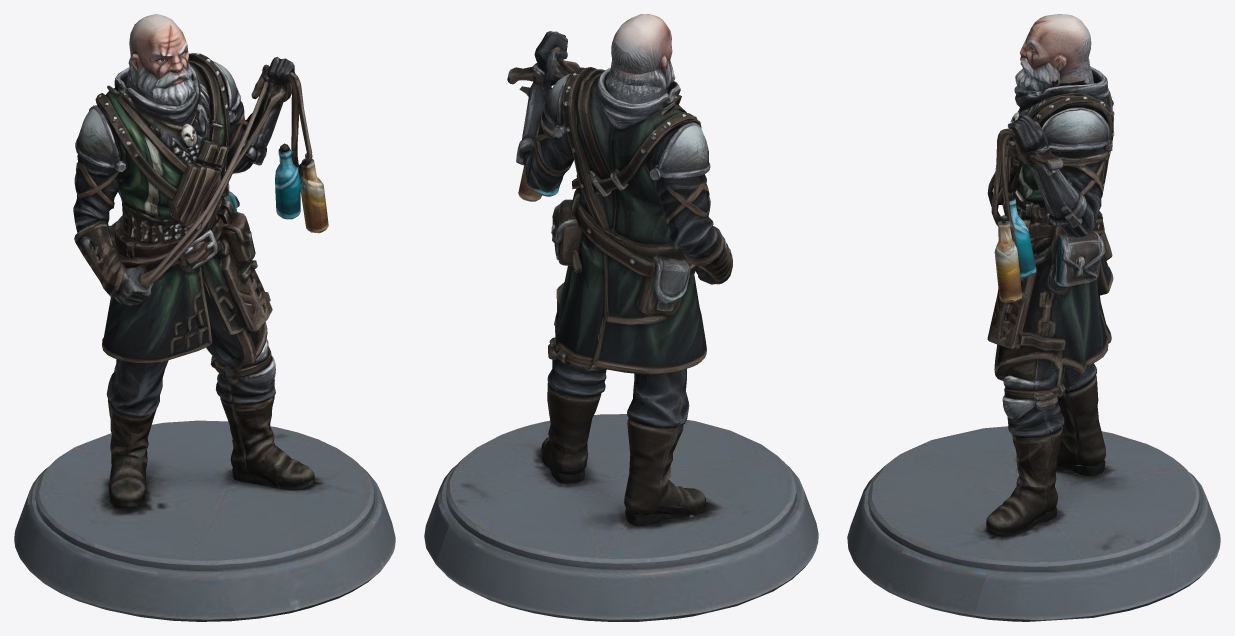
File: krim.glb
The picture shows the model from 3 angles, left to right: view 1: azimuth 30°, elevation 25°; view 2: azimuth 150°, elevation 25°; view 3: azimuth 270°, elevation 25°; orthographic projection. The views are drawn at different scales.
Visible parts, largest first — view 1: output_unwrapped; view 2: output_unwrapped; view 3: output_unwrapped.
Boxes of the visible parts, bbox=[...] form: output_unwrapped: bbox=[14, 14, 395, 621]; output_unwrapped: bbox=[424, 14, 818, 621]; output_unwrapped: bbox=[847, 14, 1220, 621].
Bounding box in the file's own units: 1.26 × 1.9 × 1.26.
Materials: 1 (1 with a texture image).
